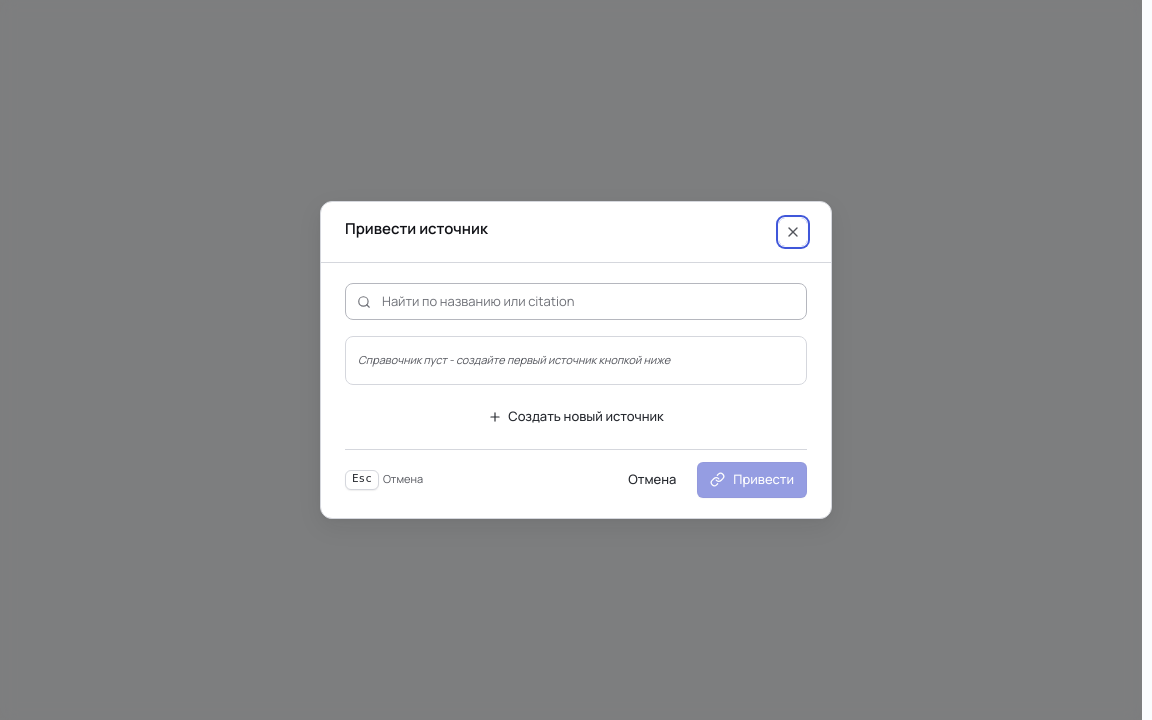
Test: AddSourceModal › create-mode › кнопка "К поиску" возвращает в search-mode
Check: the text "Справочник пуст - создайте первый источник кнопкой ниже" is shown, box [358,352,670,367]
Click the button "Создать новый источник" at (576, 417), box [345,401,807,433]
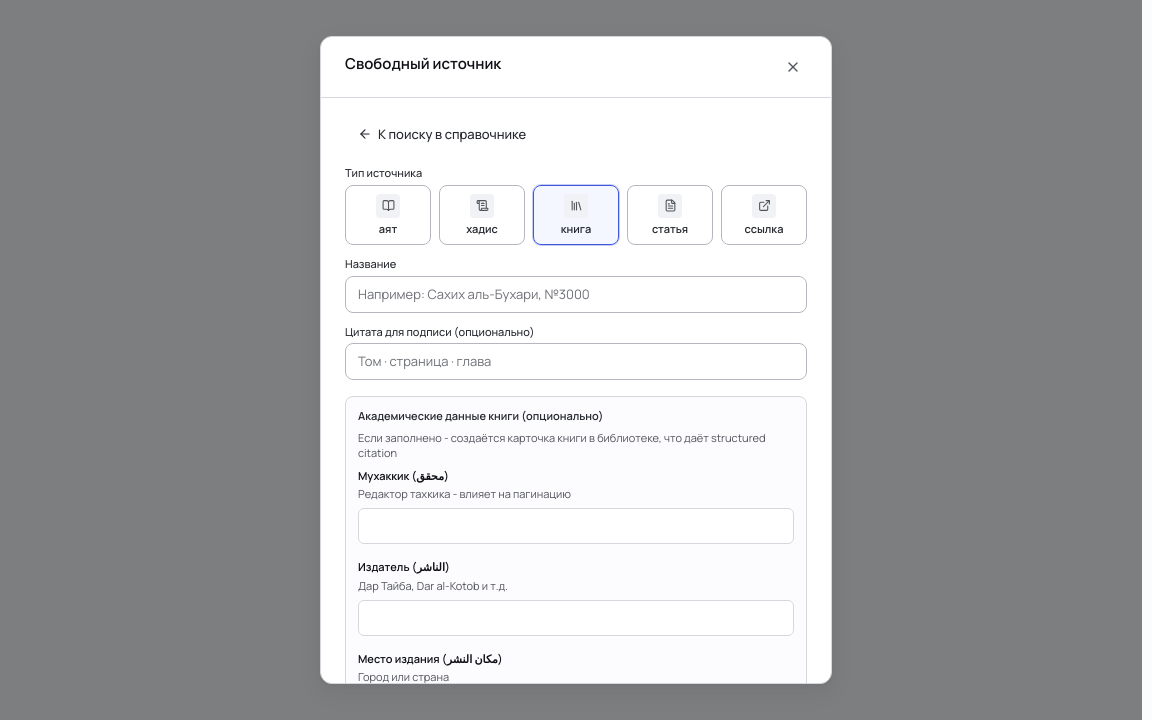
Check: the heading "Свободный источник" is shown, box [345,53,501,74]
Click the button "К поиску в справочнике" at (442, 134), box [345,118,539,150]
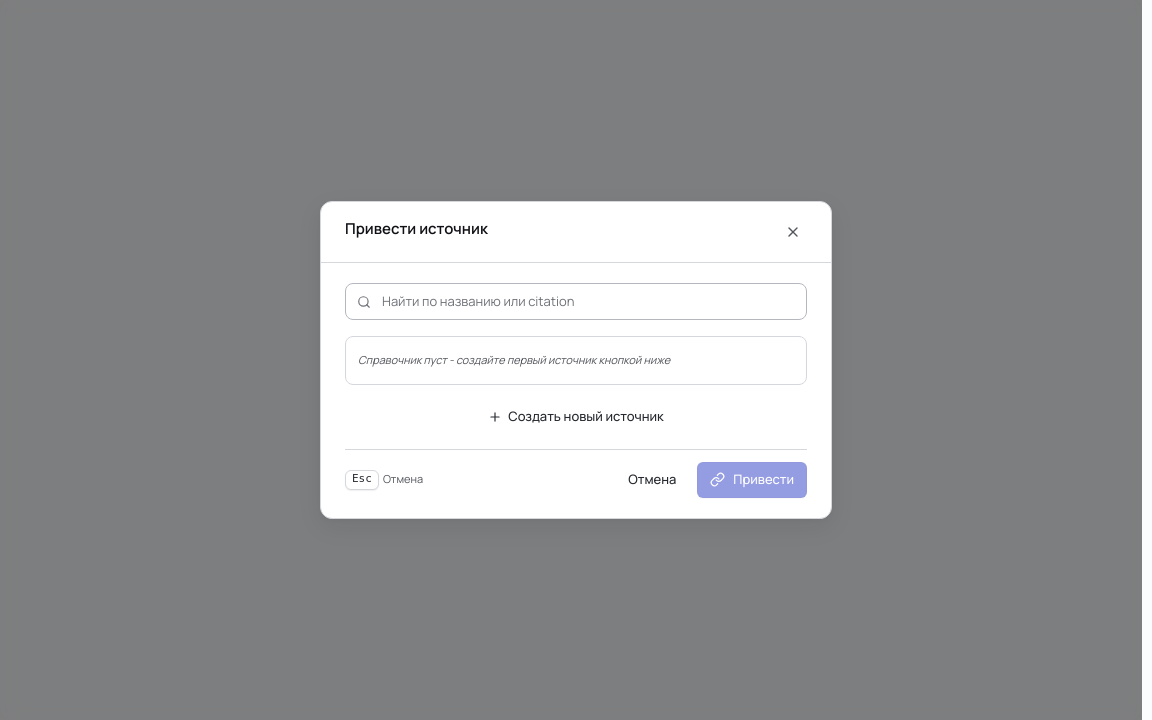
Check: the heading "Привести источник" is shown, box [345,218,488,239]
Check: the field named "Поиск источника" is shown, box [345,283,807,320]
